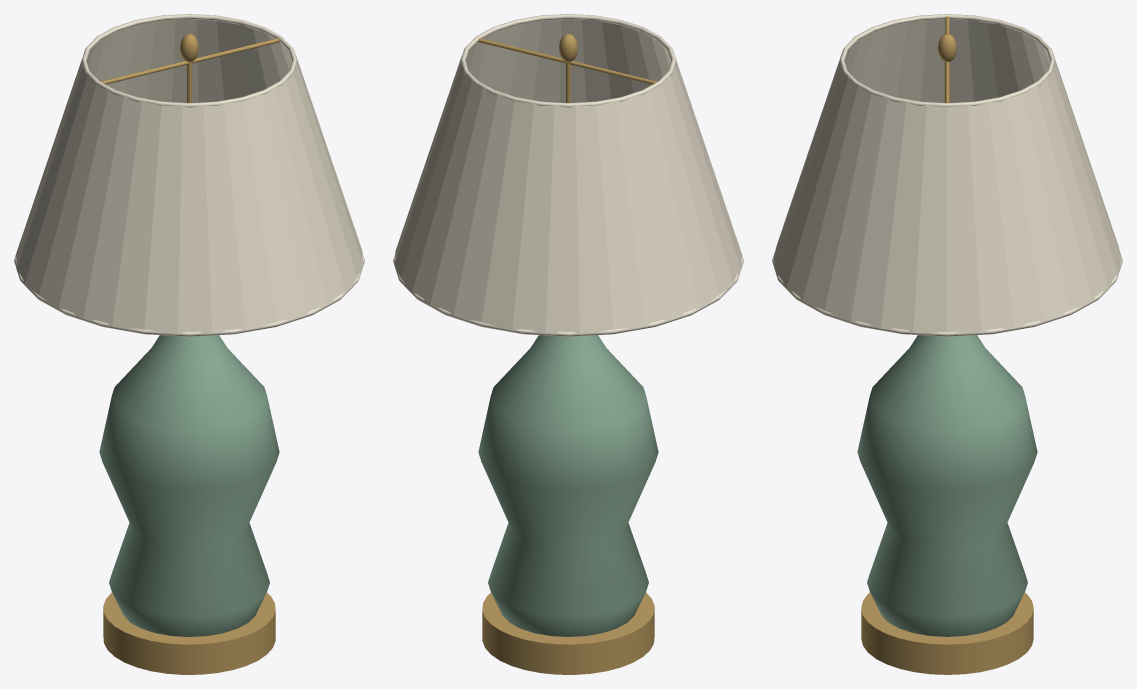
Rendered from lamp_ceramic_table.glb.
The picture shows the model from 3 angles, left to right: view 1: azimuth 30°, elevation 25°; view 2: azimuth 150°, elevation 25°; view 3: azimuth 270°, elevation 25°; orthographic projection.
Parts seen in each view (by area): view 1: Tapered fabric shade, Sculpted ceramic lamp body, Round brass lamp foot, Shade upper bound edge, Shade lower bound edge; view 2: Tapered fabric shade, Sculpted ceramic lamp body, Round brass lamp foot, Shade upper bound edge, Shade lower bound edge; view 3: Tapered fabric shade, Sculpted ceramic lamp body, Round brass lamp foot, Shade upper bound edge, Shade lower bound edge.
Boxes of the visible parts, box(x1,y1,x2,y2) form: Tapered fabric shade: box(15, 18, 363, 333); Sculpted ceramic lamp body: box(99, 335, 279, 636); Round brass lamp foot: box(103, 592, 275, 674); Shade upper bound edge: box(81, 14, 297, 107); Shade lower bound edge: box(14, 254, 364, 336); Tapered fabric shade: box(394, 18, 742, 333); Sculpted ceramic lamp body: box(478, 335, 658, 636); Round brass lamp foot: box(482, 592, 654, 674); Shade upper bound edge: box(460, 14, 676, 107); Shade lower bound edge: box(393, 254, 743, 336); Tapered fabric shade: box(773, 19, 1121, 333); Sculpted ceramic lamp body: box(857, 335, 1037, 636); Round brass lamp foot: box(861, 592, 1033, 674); Shade upper bound edge: box(839, 14, 1055, 107); Shade lower bound edge: box(772, 251, 1122, 336).
Size of the model in its own units: 0.366 by 0.6955 by 0.366.
